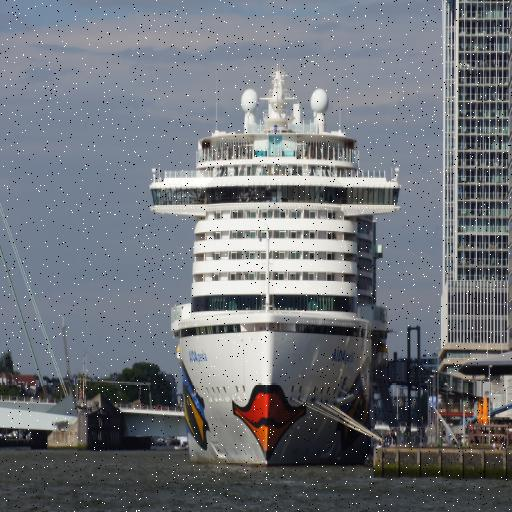cruises: (147, 65, 406, 476)
